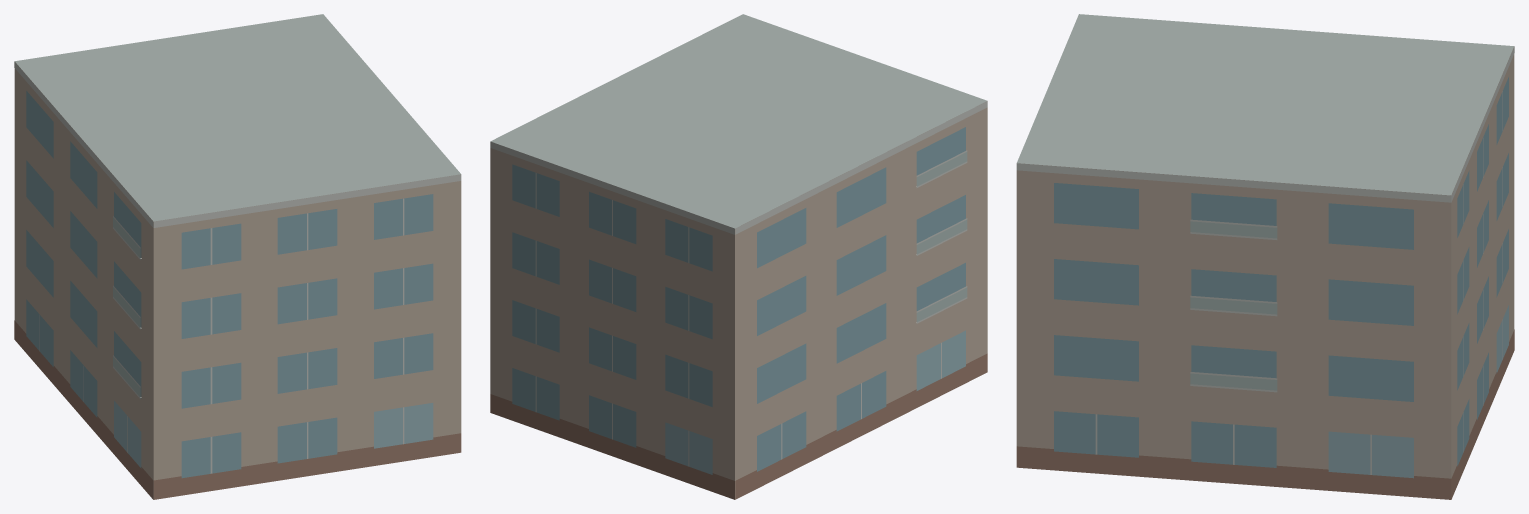
File: survey-upis-32657088.glb
The picture shows the model from 3 angles, left to right: view 1: azimuth 30°, elevation 25°; view 2: azimuth 150°, elevation 25°; view 3: azimuth 270°, elevation 25°; orthographic projection. The views are drawn at different scales.
Visible parts, largest first — view 1: survey-upis-32657088.tmp; view 2: survey-upis-32657088.tmp; view 3: survey-upis-32657088.tmp.
Part boxes in pixels (x1,y1,x2,y2): survey-upis-32657088.tmp: (14,14,461,499); survey-upis-32657088.tmp: (490,14,987,499); survey-upis-32657088.tmp: (1016,14,1514,499).
Bounding box in the file's own units: 13.18 × 10.3 × 15.27.
